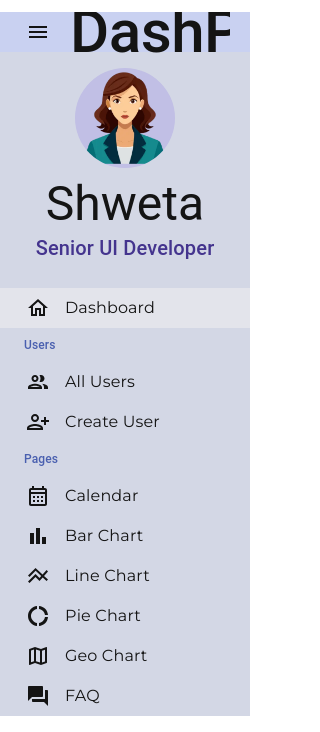
SideBar component › clicking collapse toggles sidebar collapsed state
The width and height of the screenshot is (320, 732).
Expected: the heading "Shweta" is shown, [46,175,204,232]
# Click to collapse
Click the button with aria-label "dash-pilot" at x=125, y=32, box [0,12,250,52]
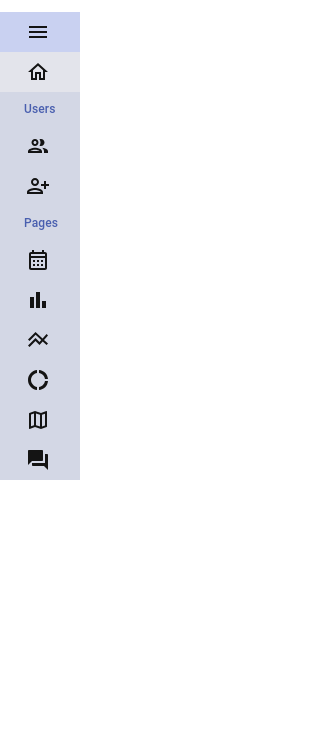
Expected: the heading "Shweta" is gone
# Click again to expand
Click the button named "dash-pilot" at x=40, y=32, box [0,12,80,52]
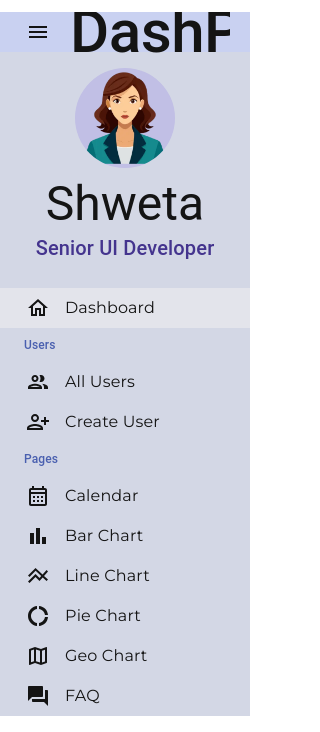
Expected: the heading "Shweta" is shown, [46,175,204,232]
